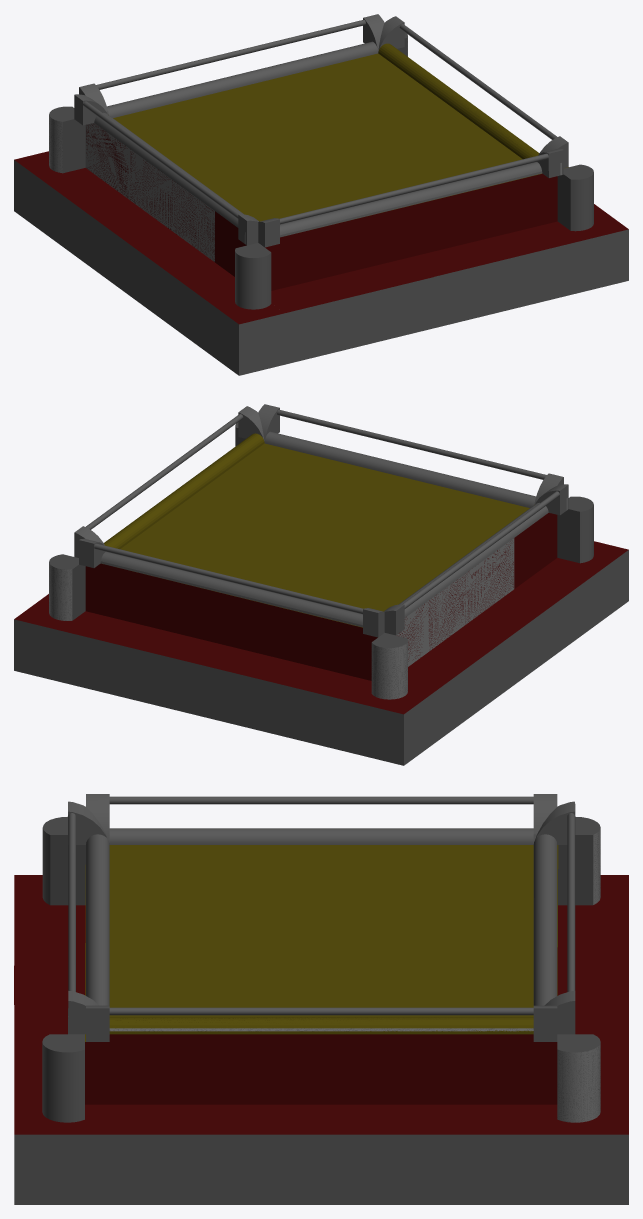
The model's file is banco_da_torre.obj.
3 views of the same model, one above another, from view 1: azimuth 30°, elevation 25°; view 2: azimuth 150°, elevation 25°; view 3: azimuth 270°, elevation 25° (orthographic). The views are drawn at different scales.
Parts seen in each view (by area): view 1: SketchUp.006_ID54; view 2: SketchUp.006_ID54; view 3: SketchUp.006_ID54.
Part boxes in pixels (bbox=[...]): SketchUp.006_ID54: bbox=[14, 14, 628, 375]; SketchUp.006_ID54: bbox=[14, 404, 628, 765]; SketchUp.006_ID54: bbox=[14, 794, 628, 1204].
Size of the model in its own units: 2.7 by 0.8431 by 2.7.
